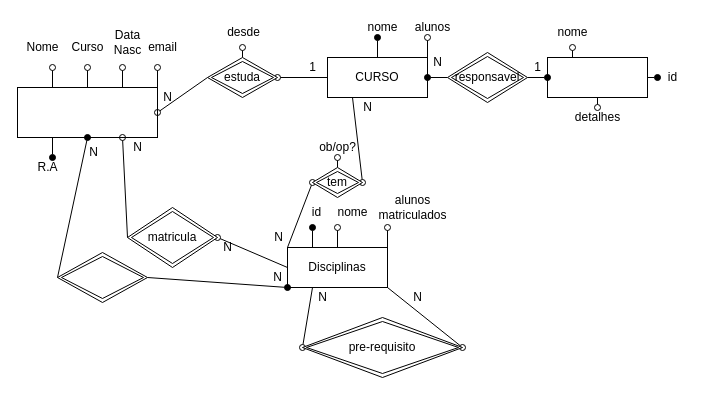
Image size: 705x395. Some labels were removed from this diagram. The centre of each missing label's shape, as x and y in pixels:
"ALUNO" goes at point (87, 112).
"concluido" goes at point (102, 277).
"Departamento" goes at point (597, 77).
